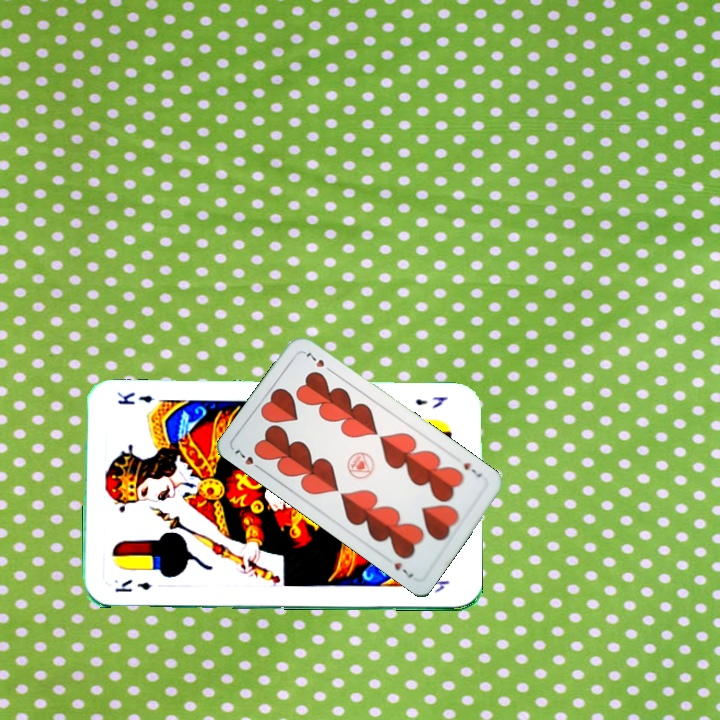EK: (111, 575, 154, 595), (411, 393, 449, 411)
H7: (231, 445, 265, 473), (460, 458, 484, 481)
